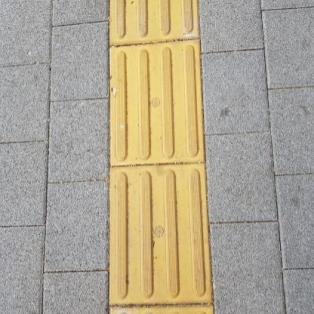Podoctatil: (98, 0, 224, 313)
